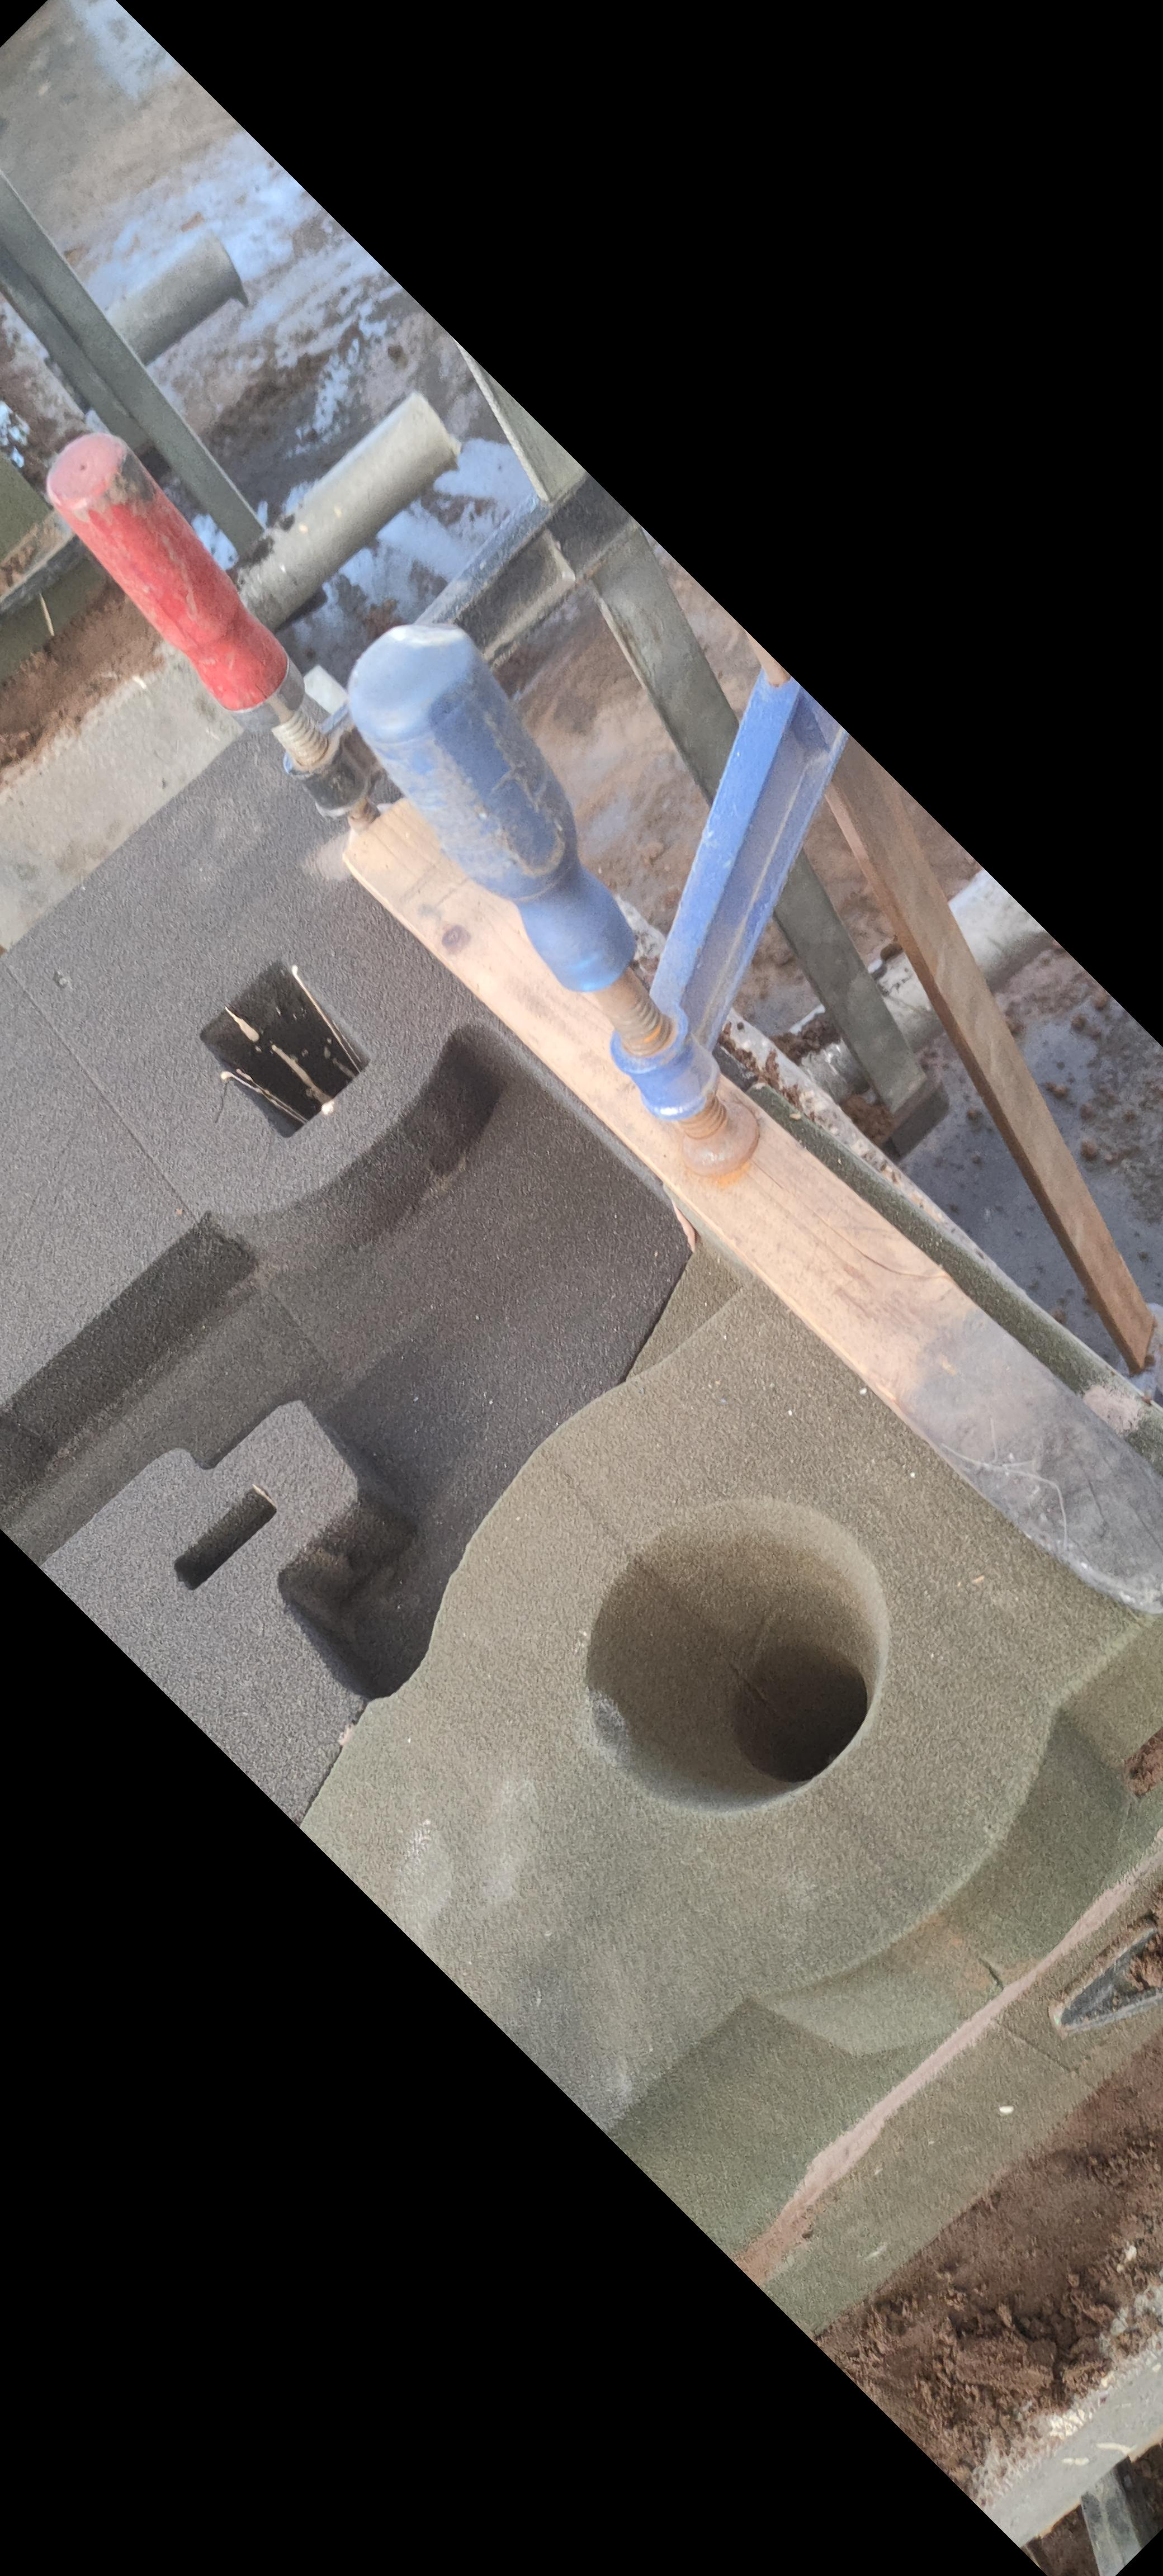pouring hole: (583, 1498, 889, 1817)
